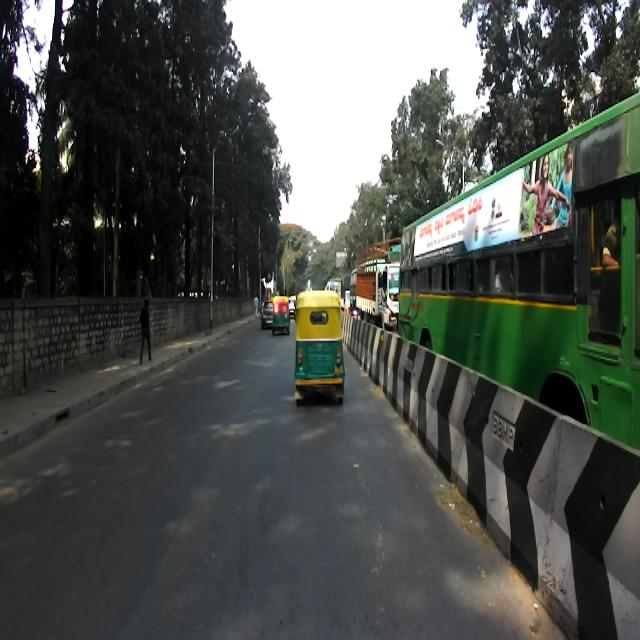auto ahead at: (292, 287, 346, 411)
person ahead at: (134, 289, 160, 363)
